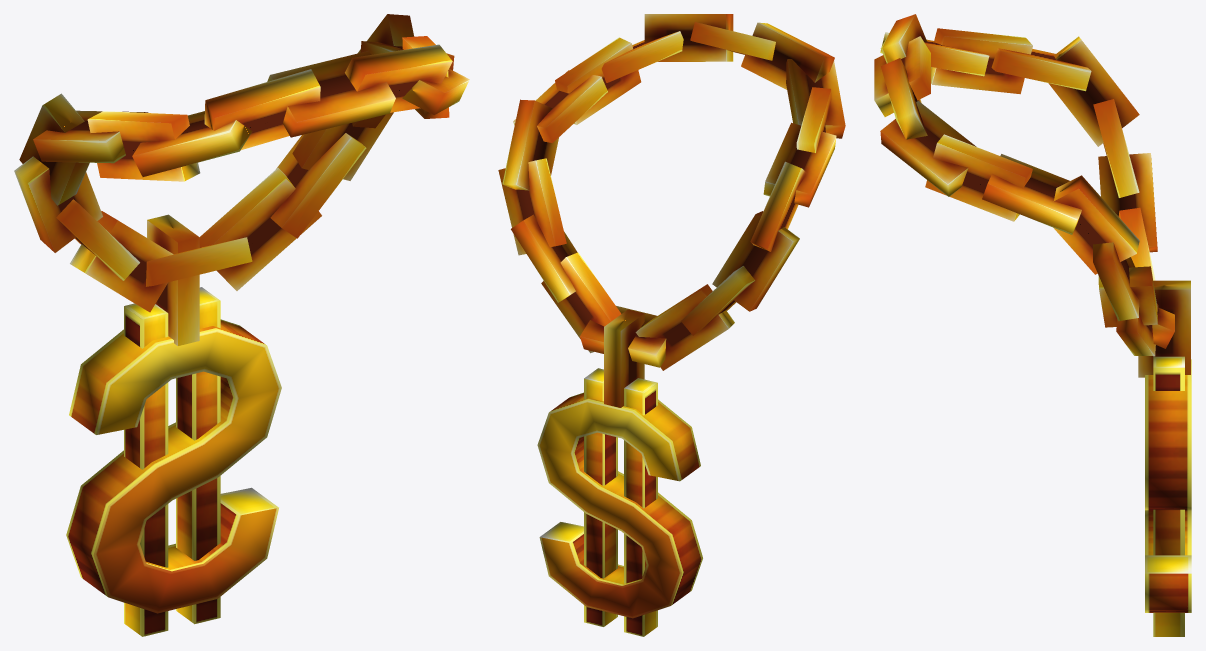
File: goldChainDollar.fbx
The picture shows the model from 3 angles, left to right: view 1: azimuth 30°, elevation 25°; view 2: azimuth 150°, elevation 25°; view 3: azimuth 270°, elevation 25°; orthographic projection. The views are drawn at different scales.
Visible parts, largest first — view 1: goldChainDollar; view 2: goldChainDollar; view 3: goldChainDollar.
Part boxes in pixels (x1,y1,x2,y2): goldChainDollar: (14, 14, 469, 636); goldChainDollar: (498, 14, 845, 636); goldChainDollar: (874, 14, 1191, 636).
Size of the model in its own units: 4.07 by 6.75 by 3.39.
